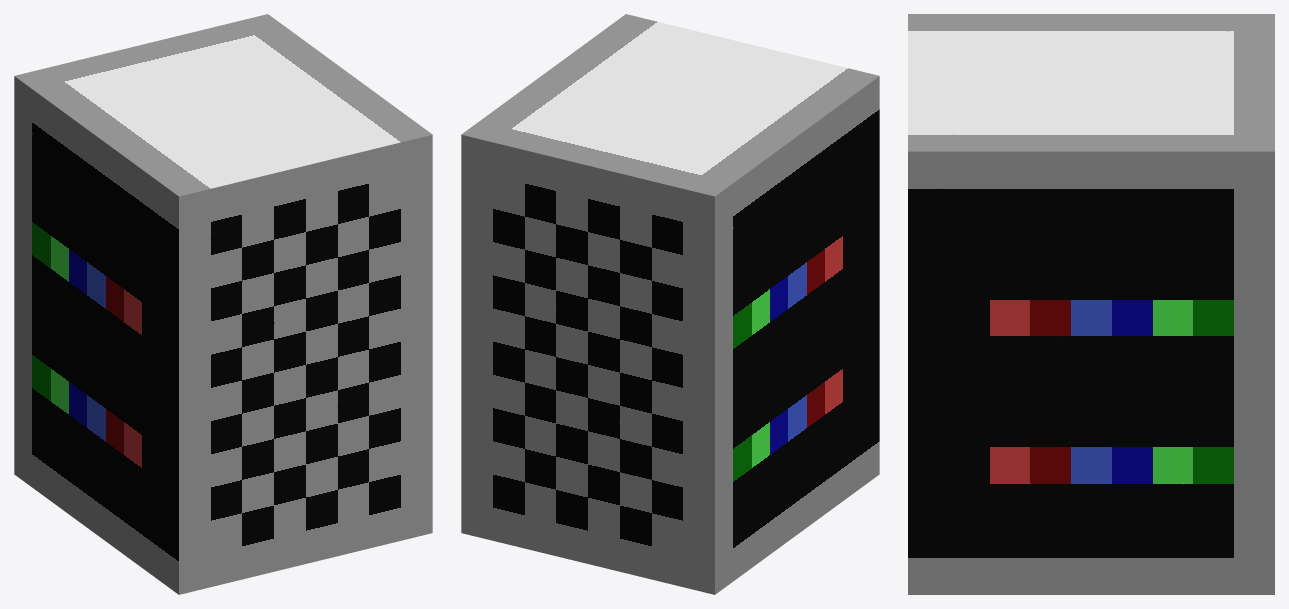
The model's file is hitek_tile_044.gltf.
3 renders of one model, left to right at view 1: azimuth 30°, elevation 25°; view 2: azimuth 150°, elevation 25°; view 3: azimuth 270°, elevation 25°, orthographic. The views are drawn at different scales.
Visible parts, largest first — view 1: hitek_tile_044; view 2: hitek_tile_044; view 3: hitek_tile_044.
Boxes of the visible parts, x1=… form: hitek_tile_044: x1=14, y1=14, x2=432, y2=594; hitek_tile_044: x1=461, y1=14, x2=879, y2=594; hitek_tile_044: x1=908, y1=14, x2=1274, y2=594.
Bounding box in the file's own units: 5.33 × 8 × 6.
Materials: 1 (1 with a texture image).
